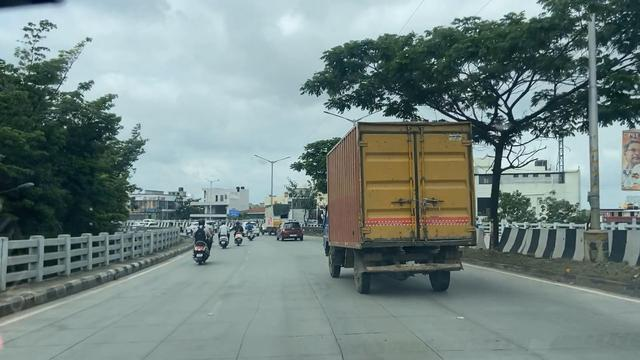HMV: (339, 117, 483, 294)
LMV: (186, 215, 213, 271), (279, 218, 304, 245), (216, 217, 229, 250), (236, 219, 244, 248), (248, 216, 257, 241)
